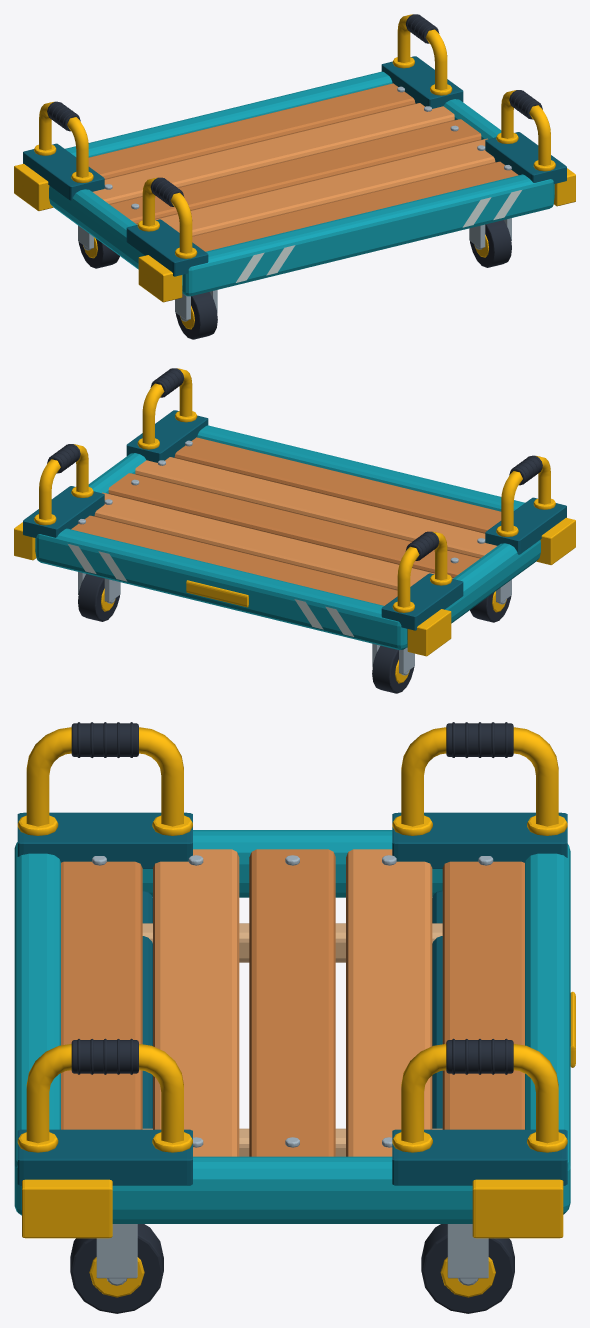
File: sled_01.fbx
3 renders of one model, top to bottom at view 1: azimuth 30°, elevation 25°; view 2: azimuth 150°, elevation 25°; view 3: azimuth 270°, elevation 25°, orthographic. The views are drawn at different scales.
Parts seen in each view (by area): view 1: Rear_Stop, Deck_Plank_04, Deck_Plank_03, Deck_Plank_05, Deck_Plank_02, Deck_Plank_01, Front_Bumper, Side_Bumper_Left, Handle_Plate_Left_Front, Handle_Plate_Left_Rear, Handle_Plate_Right_Front, Handle_Plate_Right_Rear (+15 smaller); view 2: Front_Bumper, Deck_Plank_02, Deck_Plank_03, Deck_Plank_01, Deck_Plank_04, Deck_Plank_05, Rear_Stop, Side_Bumper_Left, Handle_Plate_Left_Rear, Handle_Plate_Left_Front, Handle_Plate_Right_Rear, Handle_Plate_Right_Front (+16 smaller); view 3: Deck_Plank_03, Deck_Plank_02, Deck_Plank_04, Side_Bumper_Right, Deck_Plank_05, Deck_Plank_01, Rear_Stop, Front_Bumper, Handle_Plate_Right_Front, Handle_Plate_Right_Rear, Handle_Plate_Left_Rear, Handle_Plate_Left_Front (+20 smaller).
Boxes of the visible parts, x1,y1,x2,y2 form: Rear_Stop: [182, 174, 553, 296]; Deck_Plank_04: [93, 103, 454, 204]; Deck_Plank_03: [110, 119, 481, 223]; Deck_Plank_05: [88, 83, 415, 179]; Deck_Plank_02: [136, 138, 495, 236]; Deck_Plank_01: [192, 161, 518, 251]; Front_Bumper: [65, 71, 392, 157]; Side_Bumper_Left: [49, 186, 182, 289]; Handle_Plate_Left_Front: [126, 219, 208, 276]; Handle_Plate_Left_Rear: [23, 143, 104, 200]; Handle_Plate_Right_Front: [485, 132, 566, 183]; Handle_Plate_Right_Rear: [381, 56, 463, 108]; Front_Bumper: [36, 528, 407, 650]; Deck_Plank_02: [135, 457, 496, 558]; Deck_Plank_03: [108, 473, 479, 577]; Deck_Plank_01: [174, 437, 501, 533]; Deck_Plank_04: [94, 492, 453, 590]; Deck_Plank_05: [71, 515, 397, 605]; Rear_Stop: [197, 425, 524, 511]; Side_Bumper_Left: [406, 540, 540, 647]; Handle_Plate_Left_Rear: [381, 573, 463, 630]; Handle_Plate_Left_Front: [485, 497, 566, 554]; Handle_Plate_Right_Rear: [23, 486, 104, 537]; Handle_Plate_Right_Front: [126, 410, 208, 462]; Deck_Plank_03: [249, 849, 335, 1156]; Deck_Plank_02: [153, 849, 239, 1156]; Deck_Plank_04: [346, 849, 432, 1156]; Side_Bumper_Right: [112, 1156, 472, 1223]; Deck_Plank_05: [442, 861, 524, 1129]; Deck_Plank_01: [61, 861, 142, 1129]; Rear_Stop: [14, 842, 60, 1215]; Front_Bumper: [525, 844, 570, 1214]; Handle_Plate_Right_Front: [17, 1129, 192, 1185]; Handle_Plate_Right_Rear: [392, 1129, 567, 1185]; Handle_Plate_Left_Rear: [392, 812, 567, 868]; Handle_Plate_Left_Front: [17, 812, 192, 868].
Size of the model in its own units: 2.95 by 1.92 by 1.11.
